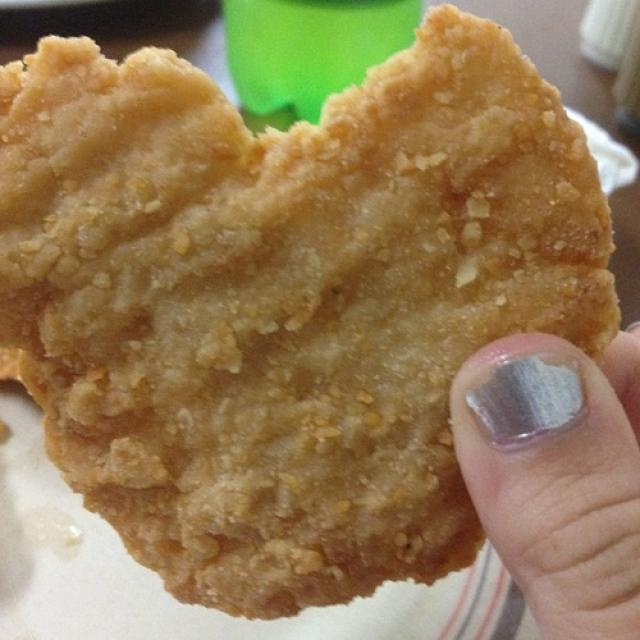鸡肉料理 含炸鸡: (4, 5, 616, 618)
